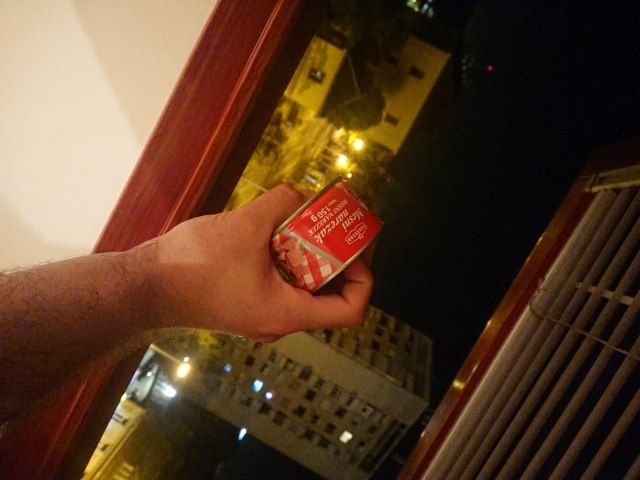Podravka Luncheon Meat 150g: (261, 173, 387, 301)
